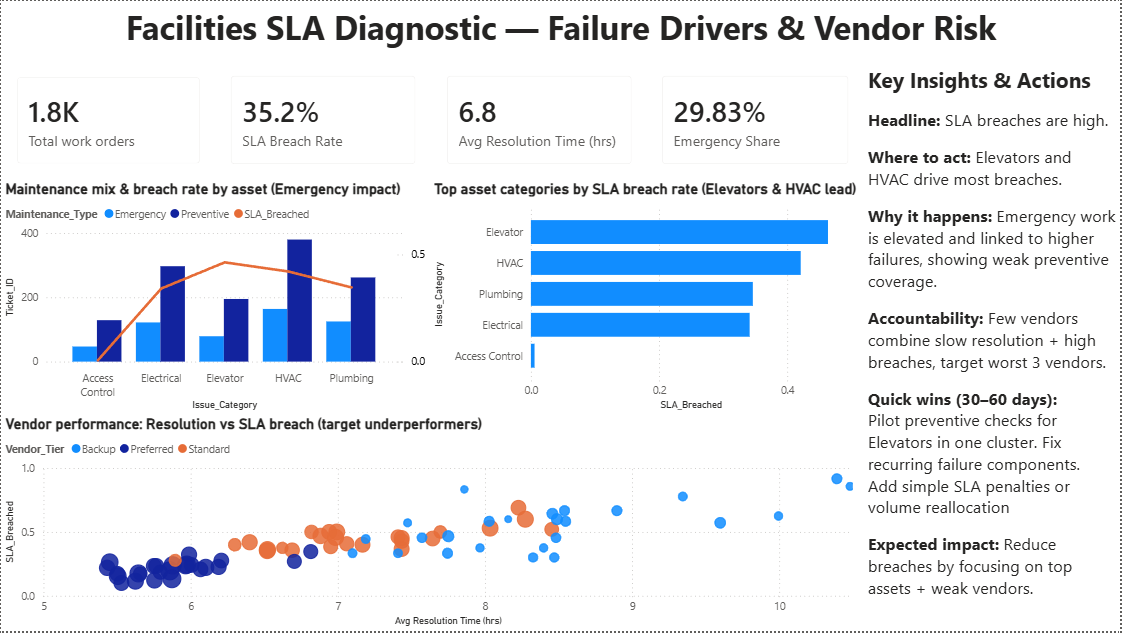

Layout of this report page (visuals, bound fields, positions):
{"tool":"powerbi","page":{"name":"Page 1","canvas":[1280,720],"ordinal":0},"visuals":[{"type":"cardVisual","title":"Total Work Orders","fields":{"Data":["CountNonNull(facilities_base.Ticket_ID)"]},"box":[0,68.6,245.3,135.7],"z":0,"group":"g1"},{"type":"group","id":"g1","title":"Group 1","box":[0,68.6,985.7,651.4],"z":1000},{"type":"cardVisual","title":"SLA Breach","fields":{"Data":["Avg(facilities_base.SLA_Breached)"]},"box":[245.1,68.6,245.1,135.7],"z":1000,"group":"g1"},{"type":"cardVisual","fields":{"Data":["Avg(facilities_base.Resolution_Time_Hours)"]},"box":[492.9,68.6,245.1,135.7],"z":2000,"group":"g1"},{"type":"textbox","box":[985.7,68.6,294.3,651.4],"z":2500},{"type":"textbox","box":[0,0,1280,68.6],"z":2501},{"type":"scatterChart","title":"Vendor performance: Resolution vs SLA breach (target underperformers)","fields":{"X":["Avg(facilities_base.Resolution_Time_Hours)"],"Y":["Avg(facilities_base.SLA_Breached)"],"Size":["CountNonNull(facilities_base.Ticket_ID)"],"Series":["facilities_base.Vendor_Tier"],"Category":["facilities_base.Vendor_ID"]},"box":[0,473.2,985.7,246.9],"z":3000,"group":"g1"},{"type":"clusteredBarChart","title":"Top asset categories by SLA breach rate (Elevators & HVAC lead)","fields":{"Category":["facilities_base.Issue_Category"],"Y":["Avg(facilities_base.SLA_Breached)"]},"box":[490.7,204.3,495.1,268.8],"z":4000,"group":"g1"},{"type":"lineClusteredColumnComboChart","title":"Maintenance mix & breach rate by asset (Emergency impact)","fields":{"Category":["facilities_base.Issue_Category"],"Series":["facilities_base.Maintenance_Type"],"Y":["CountNonNull(facilities_base.Ticket_ID)"],"Y2":["Avg(facilities_base.SLA_Breached)"]},"box":[0,204.3,490,268.8],"z":5000,"group":"g1"},{"type":"cardVisual","fields":{"Data":["facilities_base.Emergency %"]},"box":[738.2,68.6,247.5,135.7],"z":6000,"group":"g1"}]}

Visuals, with their boxes in screenshot pixels (x1, y1, x2, y2), scaled from the page's 1280x720 canvas onto the 1122x633 screenshot:
"Total Work Orders" cardVisual: select_region(0, 60, 215, 180)
"Group 1" group: select_region(0, 60, 864, 632)
"SLA Breach" cardVisual: select_region(215, 60, 430, 180)
cardVisual - Avg(facilities_base.Resolution_Time_Hours): select_region(432, 60, 647, 180)
textbox: select_region(864, 60, 1121, 632)
textbox: select_region(0, 0, 1121, 60)
"Vendor performance: Resolution vs SLA breach (target underperformers)" scatterChart: select_region(0, 416, 864, 632)
"Top asset categories by SLA breach rate (Elevators & HVAC lead)" clusteredBarChart: select_region(430, 180, 864, 416)
"Maintenance mix & breach rate by asset (Emergency impact)" lineClusteredColumnComboChart: select_region(0, 180, 430, 416)
cardVisual - facilities_base.Emergency %: select_region(647, 60, 864, 180)
